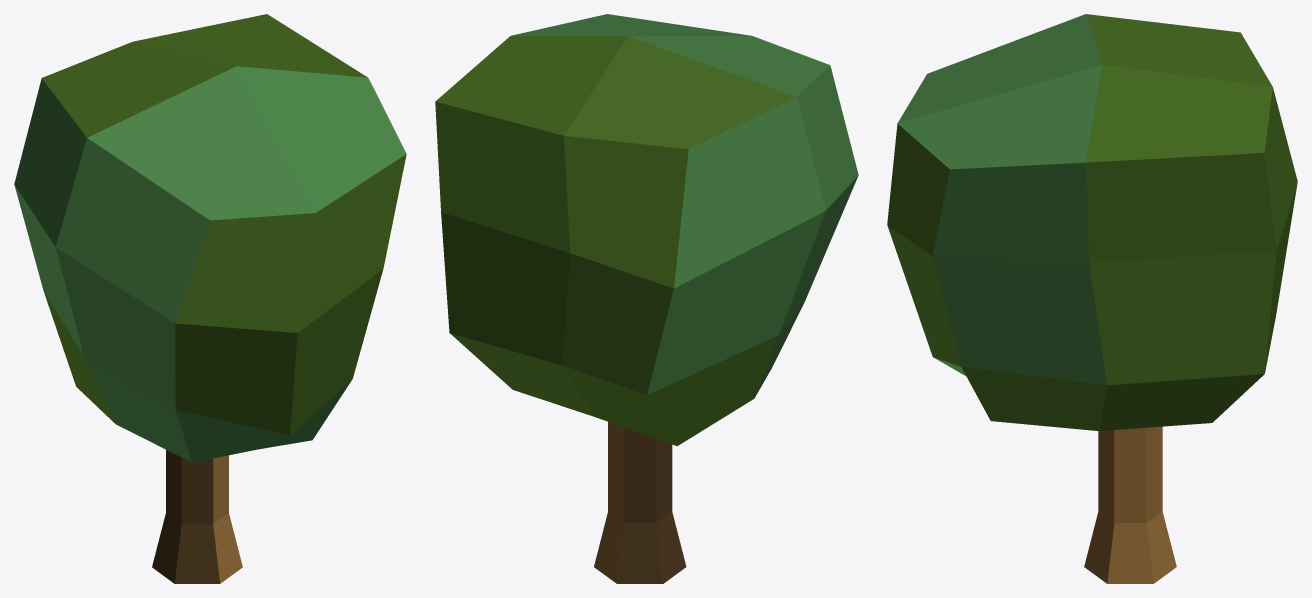
The model's file is Pine_Tree_type_3.fbx.
The picture shows the model from 3 angles, left to right: view 1: azimuth 30°, elevation 25°; view 2: azimuth 150°, elevation 25°; view 3: azimuth 270°, elevation 25°; orthographic projection.
Parts seen in each view (by area): view 1: Pine_tree_Log; view 2: Pine_tree_Log; view 3: Pine_tree_Log.
Boxes of the visible parts, bbox=[...] form: Pine_tree_Log: bbox=[14, 14, 406, 583]; Pine_tree_Log: bbox=[435, 14, 858, 583]; Pine_tree_Log: bbox=[887, 14, 1297, 583].
Bounding box in the file's own units: 571 × 886 × 640.
